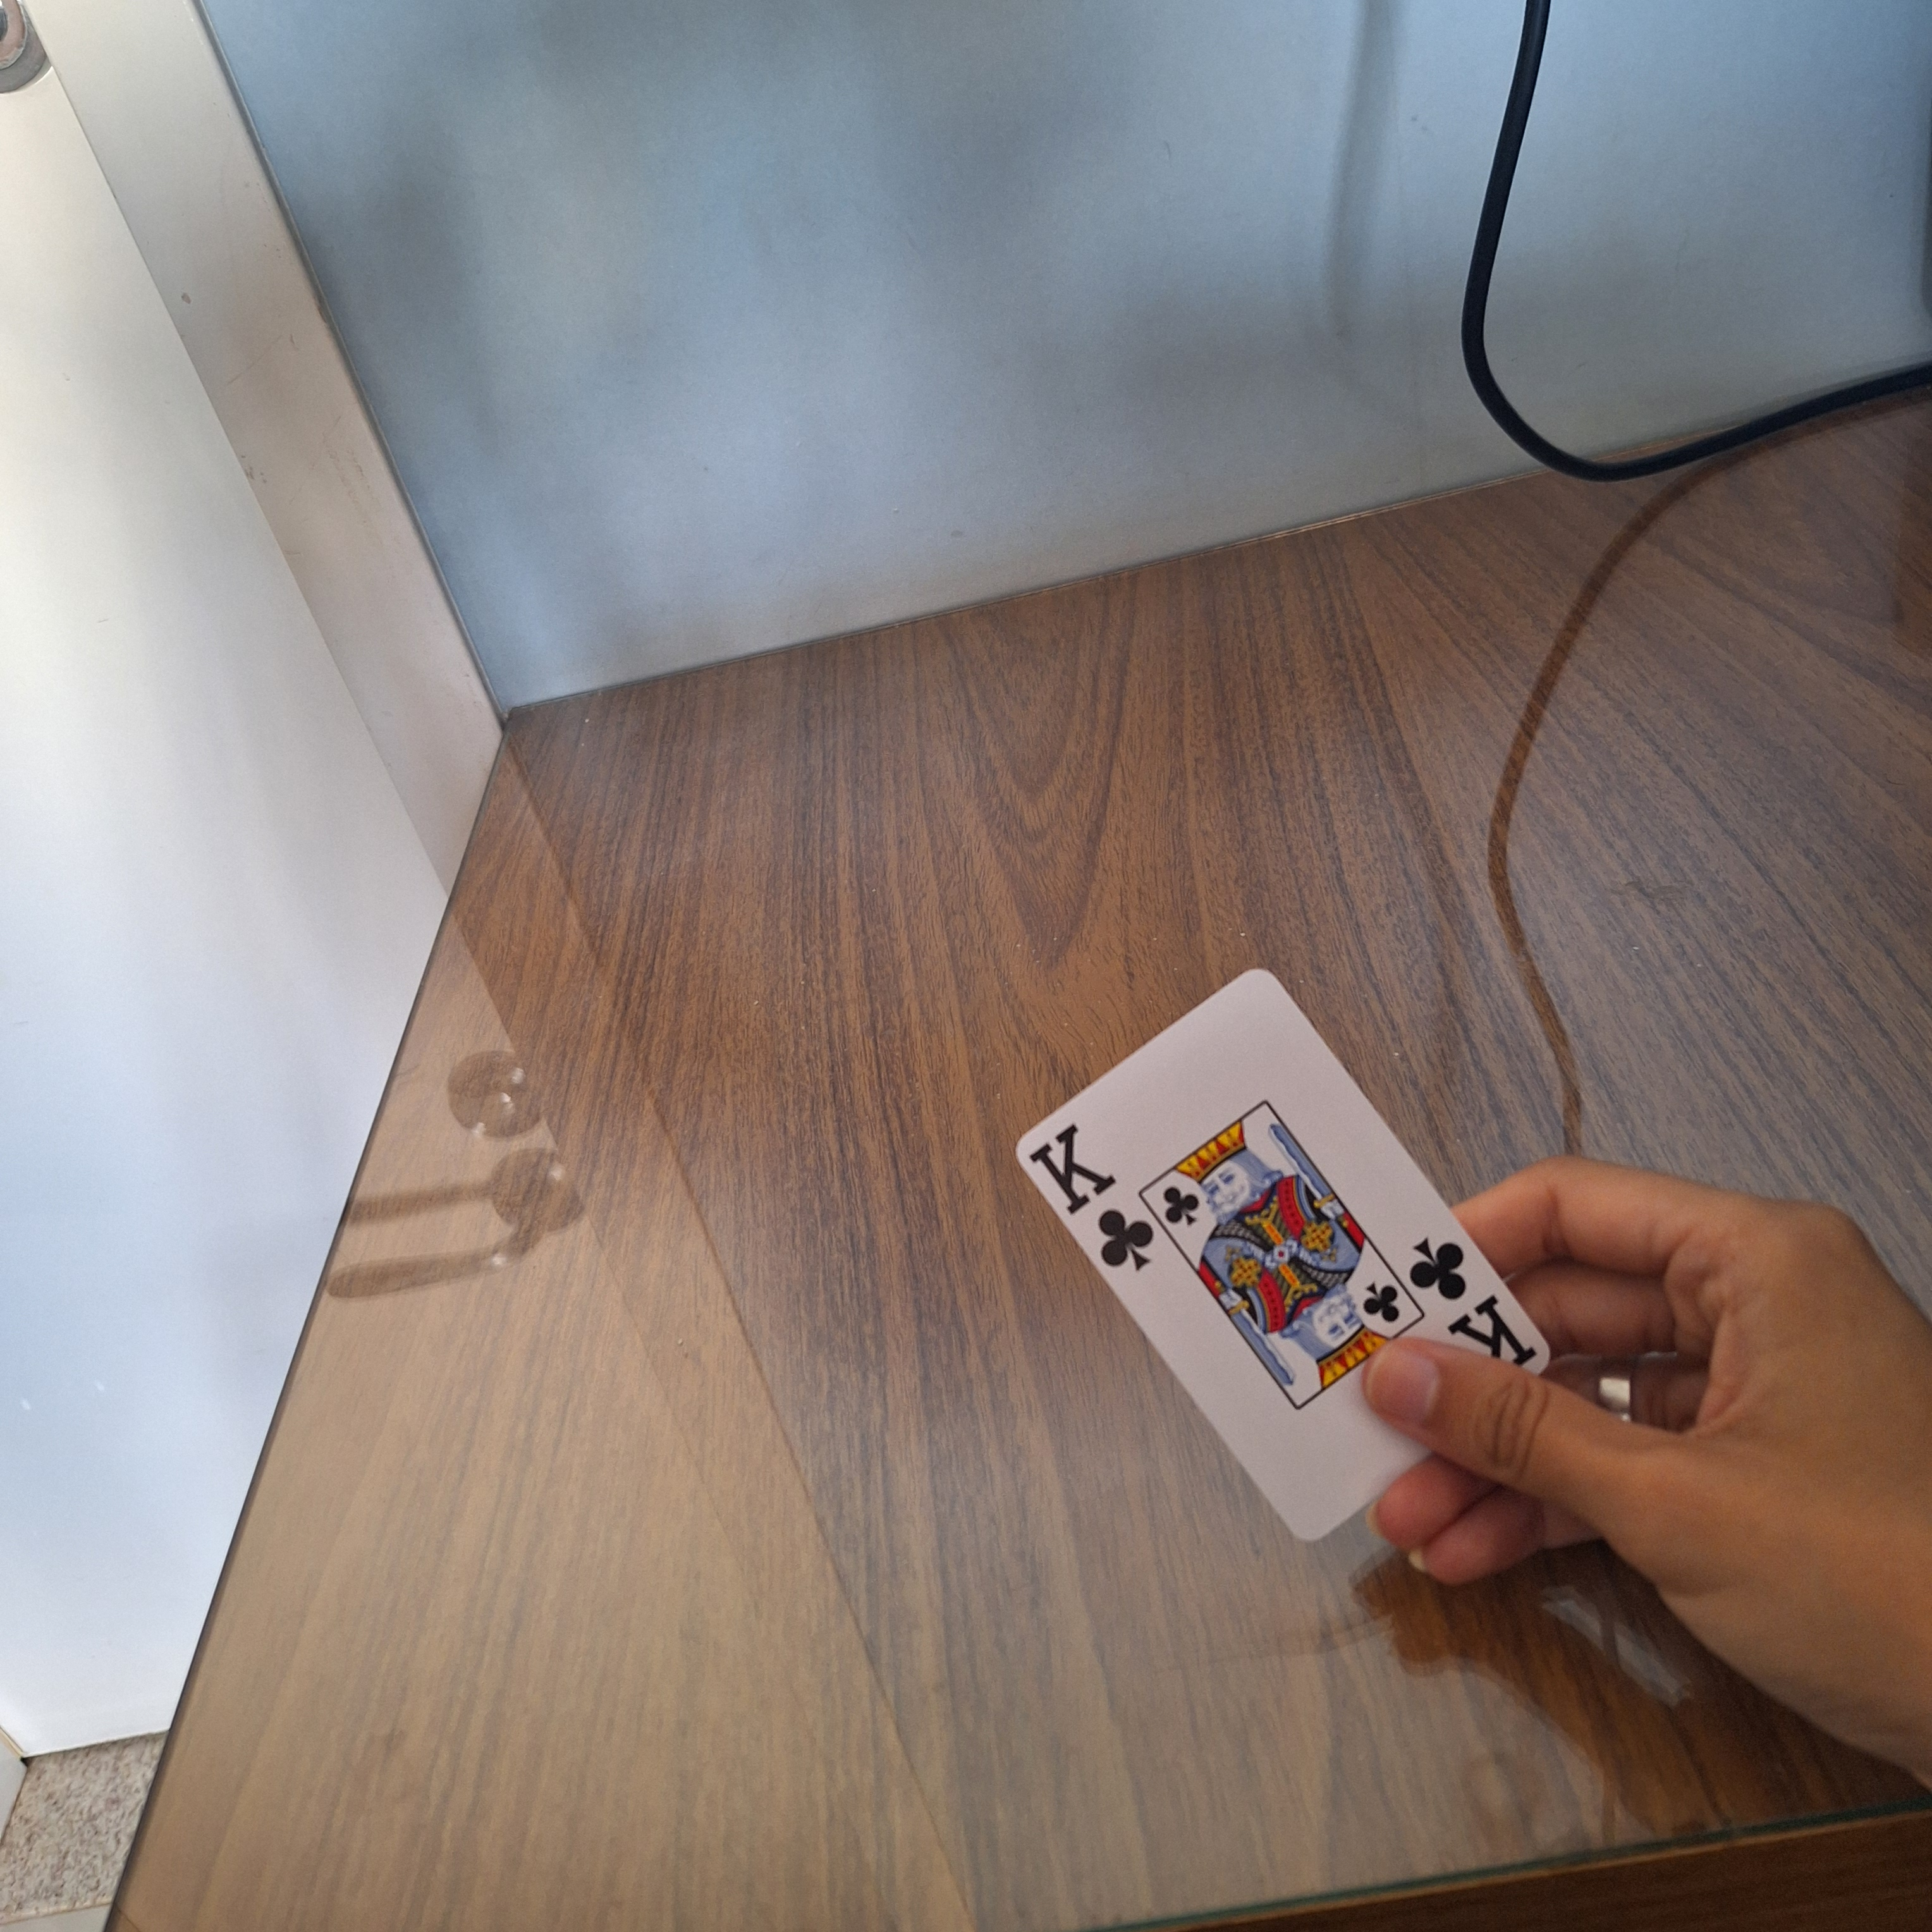KP: (1024, 1116, 1159, 1276), (1401, 1231, 1541, 1368)
